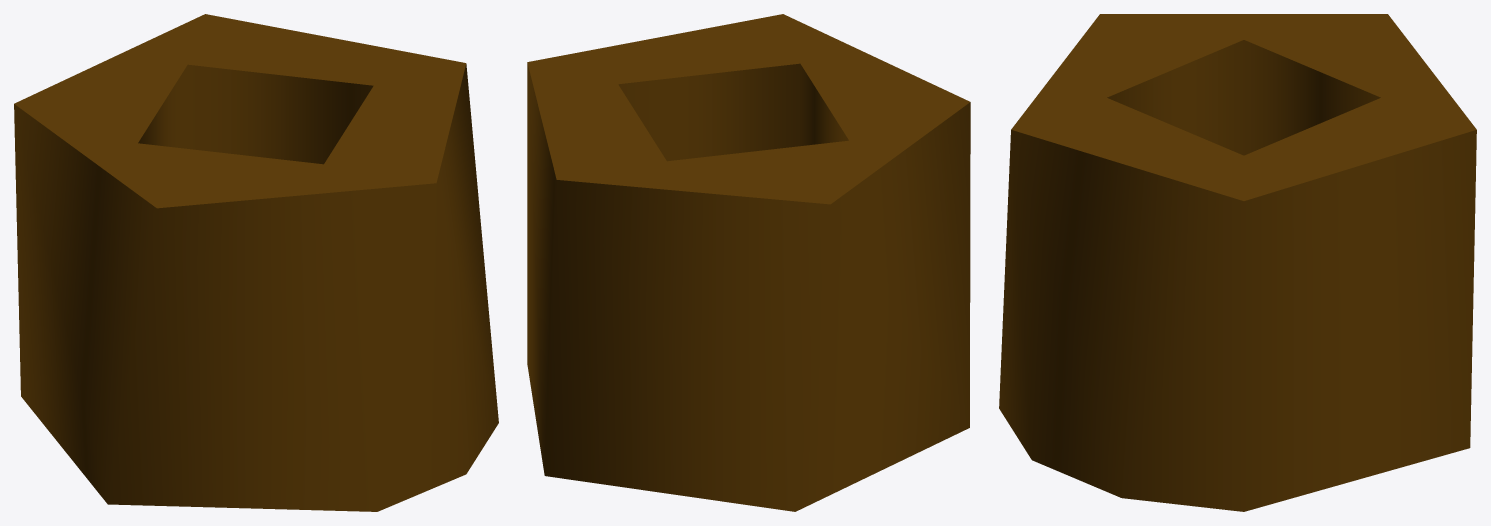
The model's file is Pallier marteau Quarts.obj.
The picture shows the model from 3 angles, left to right: view 1: azimuth 30°, elevation 25°; view 2: azimuth 150°, elevation 25°; view 3: azimuth 270°, elevation 25°; orthographic projection. The views are drawn at different scales.
Visible parts, largest first — view 1: Face_2, Face_1, Face_6; view 2: Face_2, Face_1, Face_6; view 3: Face_2, Face_1, Face_6.
Boxes of the visible parts, left/top/right/bottom form: Face_2: left=14, top=64, right=498, bottom=511; Face_1: left=14, top=14, right=466, bottom=208; Face_6: left=138, top=64, right=373, bottom=164; Face_2: left=527, top=63, right=970, bottom=511; Face_1: left=527, top=14, right=969, bottom=204; Face_6: left=618, top=63, right=848, bottom=161; Face_2: left=999, top=130, right=1476, bottom=511; Face_1: left=1011, top=14, right=1476, bottom=200; Face_6: left=1107, top=40, right=1380, bottom=155.
Size of the model in its own units: 0.00481 by 0.0035 by 0.00488.
